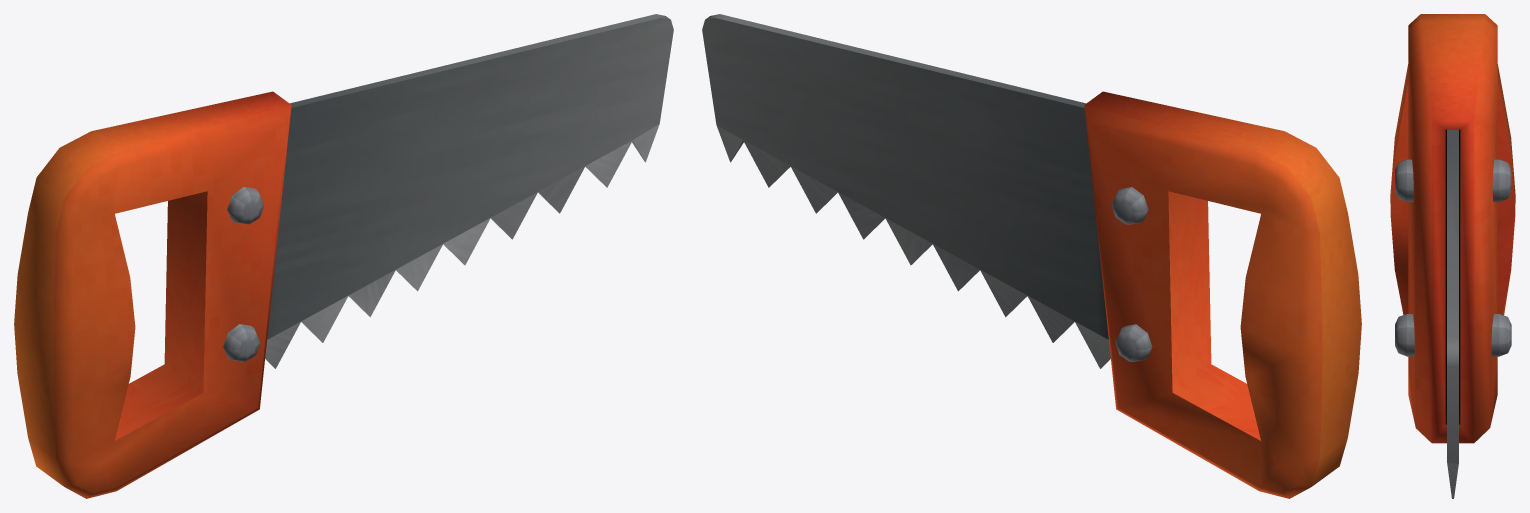
File: saw.fbx
3 renders of one model, left to right at view 1: azimuth 30°, elevation 25°; view 2: azimuth 150°, elevation 25°; view 3: azimuth 270°, elevation 25°, orthographic. The views are drawn at different scales.
Visible parts, largest first — view 1: saw; view 2: saw; view 3: saw.
Boxes of the visible parts, bbox=[...] form: saw: bbox=[14, 14, 673, 498]; saw: bbox=[702, 14, 1361, 498]; saw: bbox=[1390, 14, 1515, 498].
Size of the model in its own units: 50.25 by 25.55 by 7.44.
